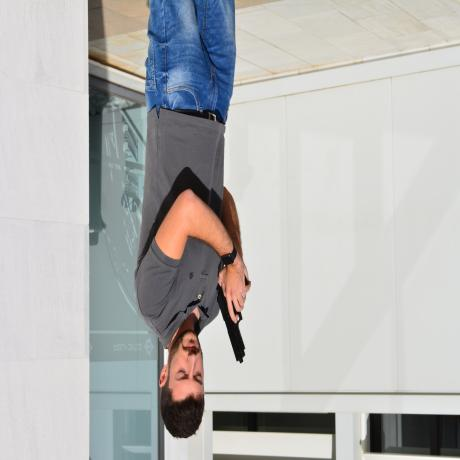1: (134, 0, 250, 442)
weapon: (215, 263, 252, 365)
